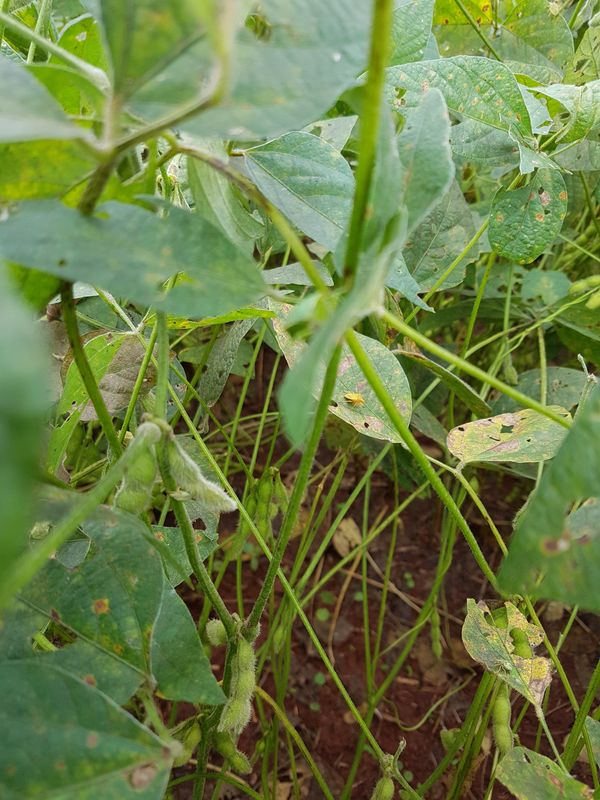Euschistus_heros_ninfa: (332, 383, 375, 416)
